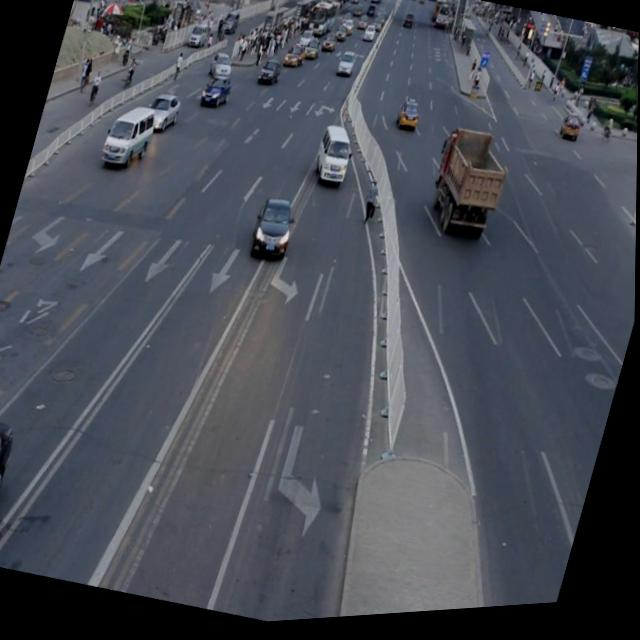bus: (421, 126, 514, 249)
car: (246, 195, 300, 268), (0, 406, 21, 562), (142, 89, 184, 138), (198, 73, 234, 115)
truck: (99, 99, 160, 174), (309, 124, 358, 192)
